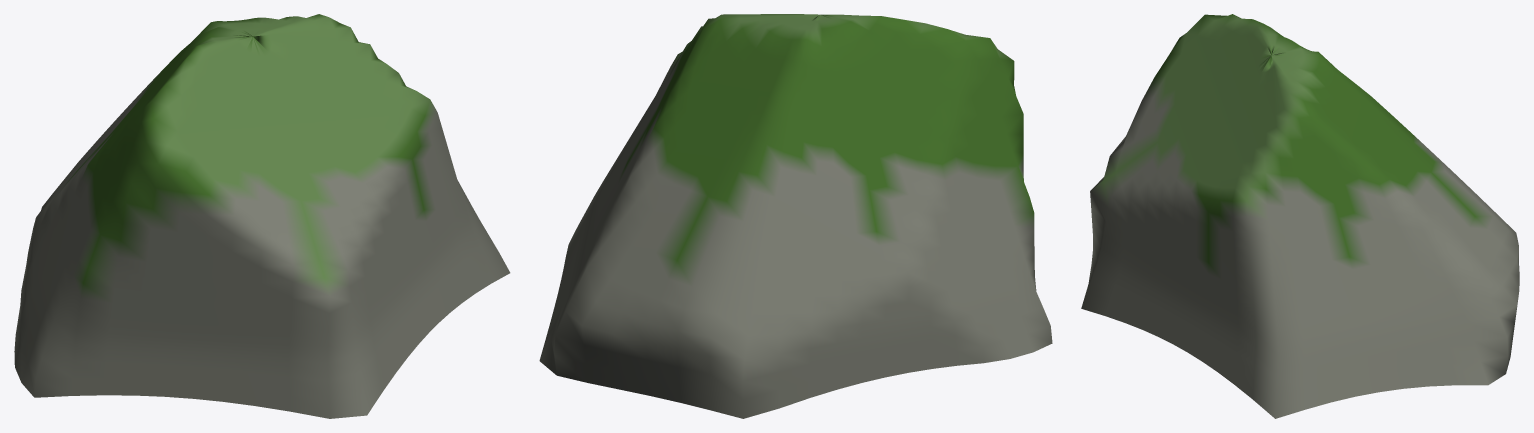
The model's file is rock-boulder.obj.
3 renders of one model, left to right at view 1: azimuth 30°, elevation 25°; view 2: azimuth 150°, elevation 25°; view 3: azimuth 270°, elevation 25°, orthographic. The views are drawn at different scales.
Visible parts, largest first — view 1: rock; view 2: rock; view 3: rock.
Boxes of the visible parts, <box> form: rock: <box>14,14,510,418</box>; rock: <box>539,14,1052,418</box>; rock: <box>1081,14,1519,418</box>.
Bounding box in the file's own units: 460 × 285 × 420.
